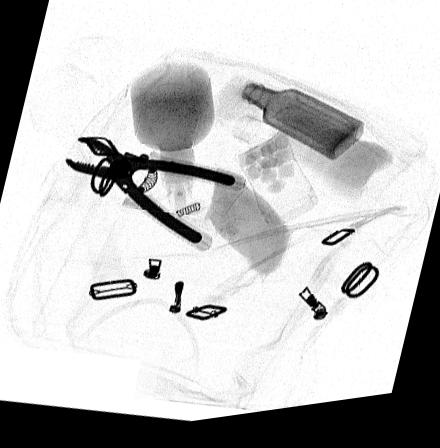Pliers: (63, 136, 234, 251)
